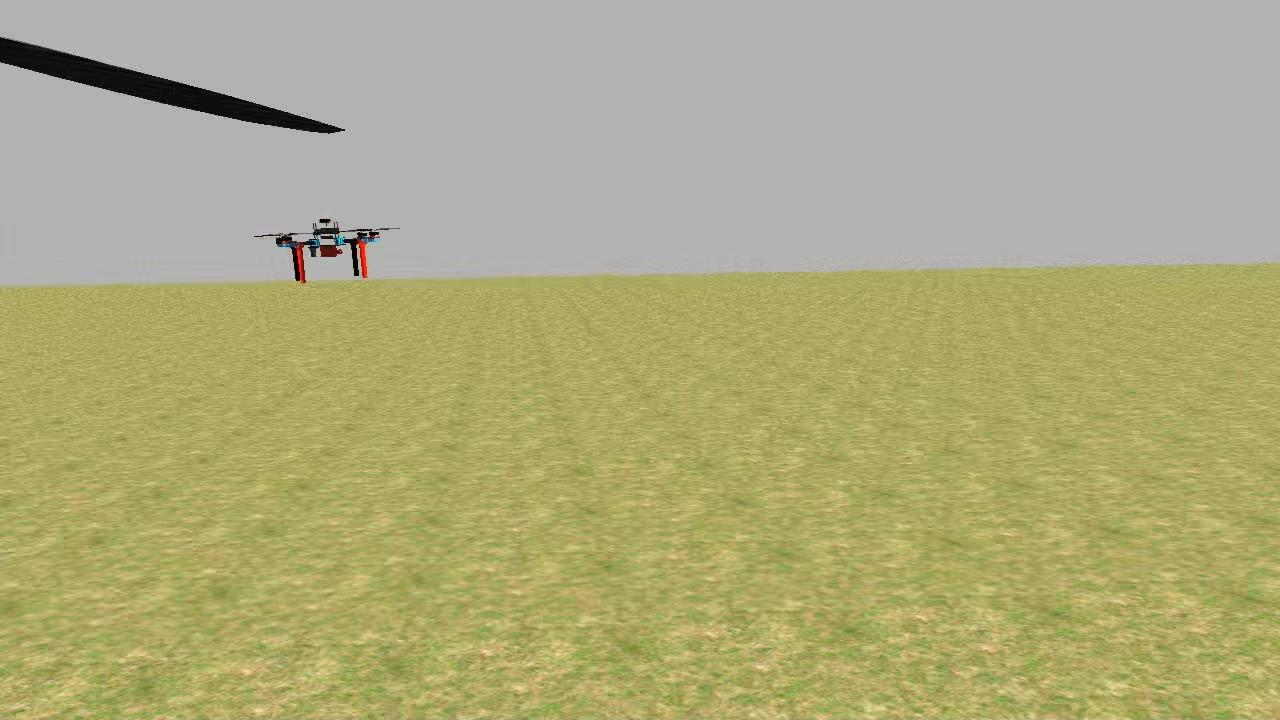UAV: (264, 210, 388, 292)
